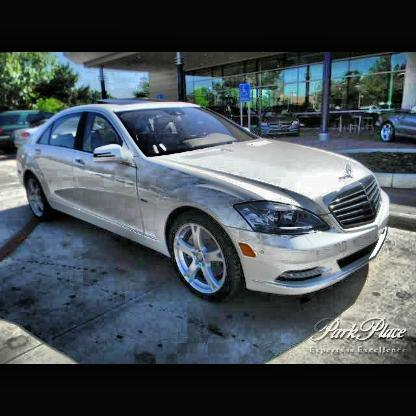Mercedes-Benz S-Class Sedan 2012: (12, 99, 392, 303)
